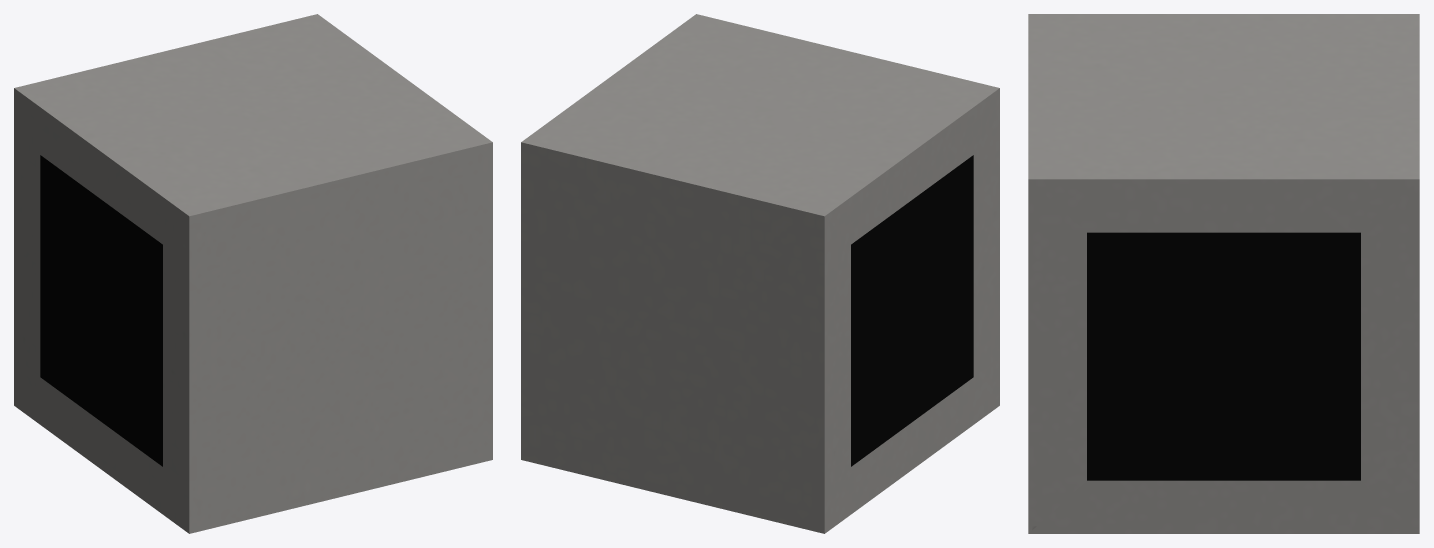
File: PoweredConveyor.fbx
The picture shows the model from 3 angles, left to right: view 1: azimuth 30°, elevation 25°; view 2: azimuth 150°, elevation 25°; view 3: azimuth 270°, elevation 25°; orthographic projection. The views are drawn at different scales.
Parts seen in each view (by area): view 1: Cube; view 2: Cube; view 3: Cube.
Part boxes in pixels (x1=…): Cube: x1=14, y1=14, x2=492, y2=533; Cube: x1=521, y1=14, x2=999, y2=533; Cube: x1=1028, y1=14, x2=1419, y2=533.
Bounding box in the file's own units: 200 × 200 × 200.
